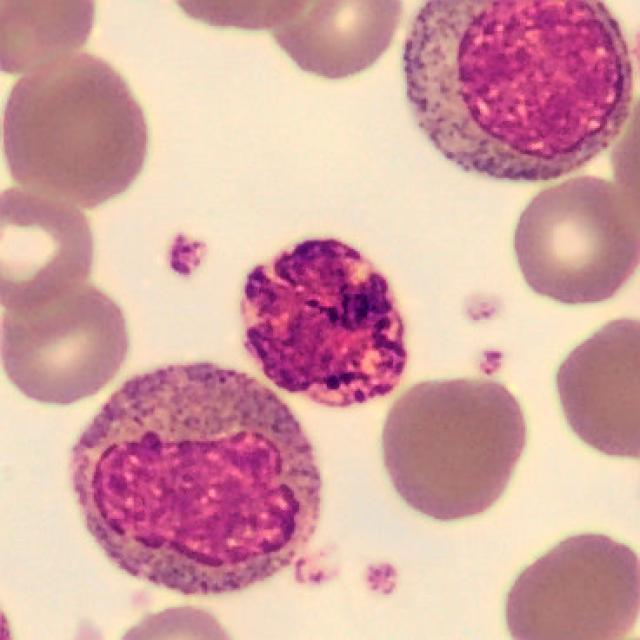Metamielocito: (70, 363, 323, 598)
Mielocito: (405, 0, 631, 182)
